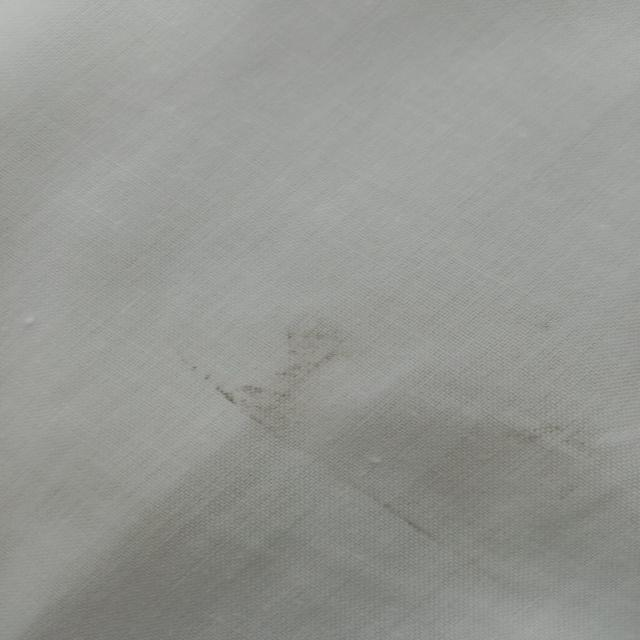stain: (187, 317, 361, 424), (472, 414, 596, 484)
